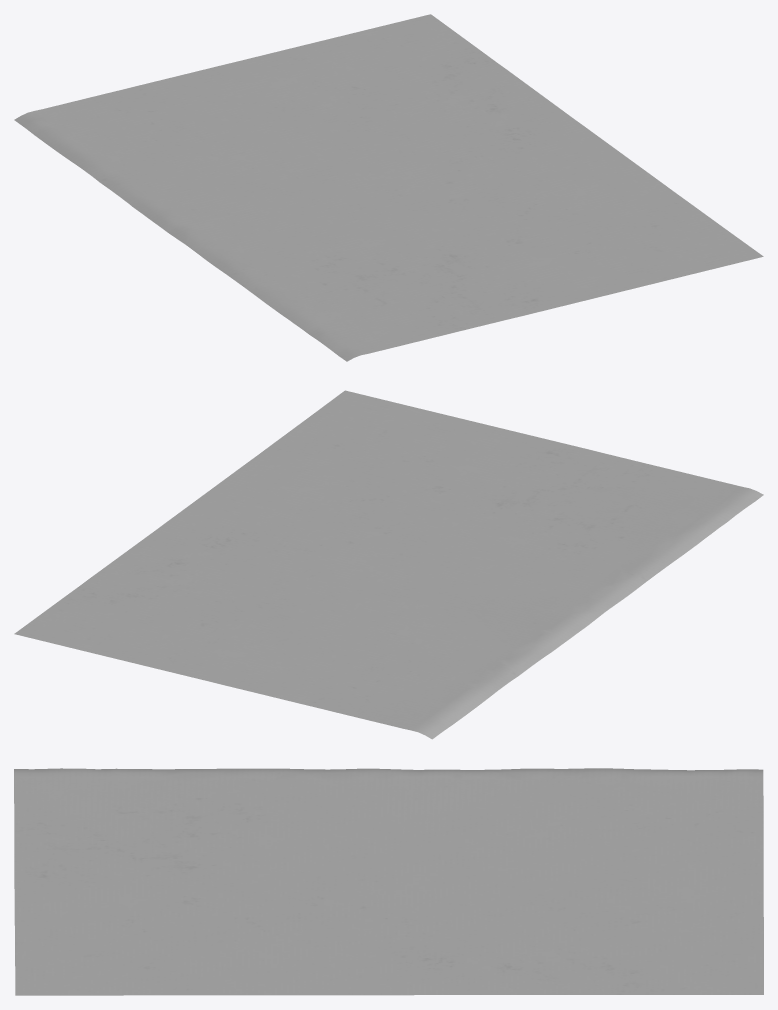
The model's file is SM_Medical_Cart_2_cloth.FBX.
3 renders of one model, top to bottom at view 1: azimuth 30°, elevation 25°; view 2: azimuth 150°, elevation 25°; view 3: azimuth 270°, elevation 25°, orthographic. The views are drawn at different scales.
Visible parts, largest first — view 1: Medical_Cart_2_cloth; view 2: Medical_Cart_2_cloth; view 3: Medical_Cart_2_cloth.
Boxes of the visible parts, <box> form: Medical_Cart_2_cloth: <box>14,14,763,361</box>; Medical_Cart_2_cloth: <box>14,390,763,739</box>; Medical_Cart_2_cloth: <box>14,768,763,995</box>.
Bounding box in the file's own units: 59.59 × 81.9 × 0.6354.
